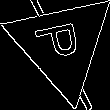P_E: (34, 21, 89, 68)
